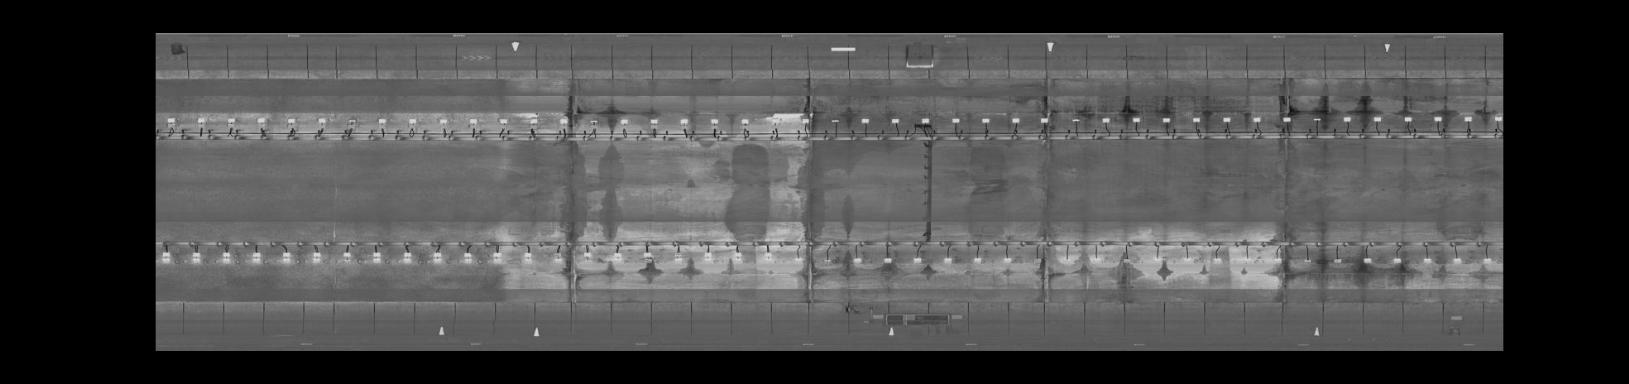light: (399, 249, 417, 267), (368, 250, 388, 266), (575, 250, 598, 263), (333, 249, 353, 264), (430, 249, 446, 265), (1478, 254, 1496, 268), (1029, 254, 1046, 268), (1328, 255, 1346, 268), (404, 113, 422, 126), (277, 250, 295, 263), (308, 250, 325, 263), (766, 115, 784, 127), (609, 251, 627, 263), (519, 251, 538, 263), (556, 115, 575, 127), (1418, 254, 1434, 268), (644, 115, 660, 129), (668, 250, 684, 264), (939, 255, 956, 268), (549, 253, 565, 266), (1088, 254, 1105, 266), (489, 251, 504, 265), (459, 252, 474, 266), (1357, 257, 1376, 268), (1158, 114, 1174, 127), (1116, 255, 1134, 266), (638, 250, 653, 263), (216, 250, 235, 260), (1388, 254, 1405, 266), (758, 252, 775, 264), (495, 116, 511, 128), (1057, 255, 1074, 266), (848, 255, 865, 266), (187, 252, 205, 263), (700, 249, 714, 263), (527, 115, 540, 129), (1218, 113, 1232, 126), (970, 254, 986, 266), (737, 115, 752, 127), (158, 251, 173, 263), (344, 115, 363, 125), (221, 115, 240, 125), (1248, 114, 1264, 125), (705, 116, 722, 127), (253, 116, 270, 127), (1369, 113, 1384, 125), (1299, 254, 1313, 266), (1208, 254, 1223, 266), (615, 115, 630, 127), (249, 251, 264, 263), (434, 116, 450, 127), (1037, 115, 1053, 125), (163, 115, 180, 125), (999, 254, 1013, 266), (676, 117, 690, 129), (374, 115, 388, 127), (1279, 113, 1293, 124), (1309, 114, 1325, 124), (909, 256, 925, 266), (283, 116, 298, 126), (1451, 254, 1464, 266), (731, 250, 744, 262), (881, 256, 894, 267), (587, 116, 600, 127), (1179, 254, 1196, 263), (1461, 114, 1475, 124), (1189, 115, 1203, 125), (886, 115, 901, 125), (465, 115, 480, 125), (315, 115, 329, 125), (1431, 114, 1443, 125), (1128, 115, 1144, 124), (1096, 115, 1112, 124), (1340, 114, 1354, 124), (1009, 115, 1022, 125), (1150, 253, 1164, 263), (1270, 255, 1284, 264), (978, 115, 992, 124), (949, 115, 963, 124), (1490, 114, 1502, 124), (193, 115, 206, 125), (819, 257, 834, 265), (1241, 254, 1255, 263), (1403, 114, 1414, 124), (790, 256, 804, 264), (858, 117, 873, 125), (796, 117, 810, 125), (919, 116, 933, 124), (1069, 116, 1081, 124), (829, 117, 842, 125)
